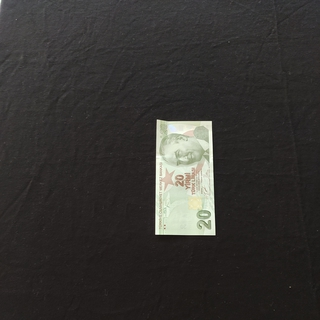20TLFront: (154, 119, 215, 235)
